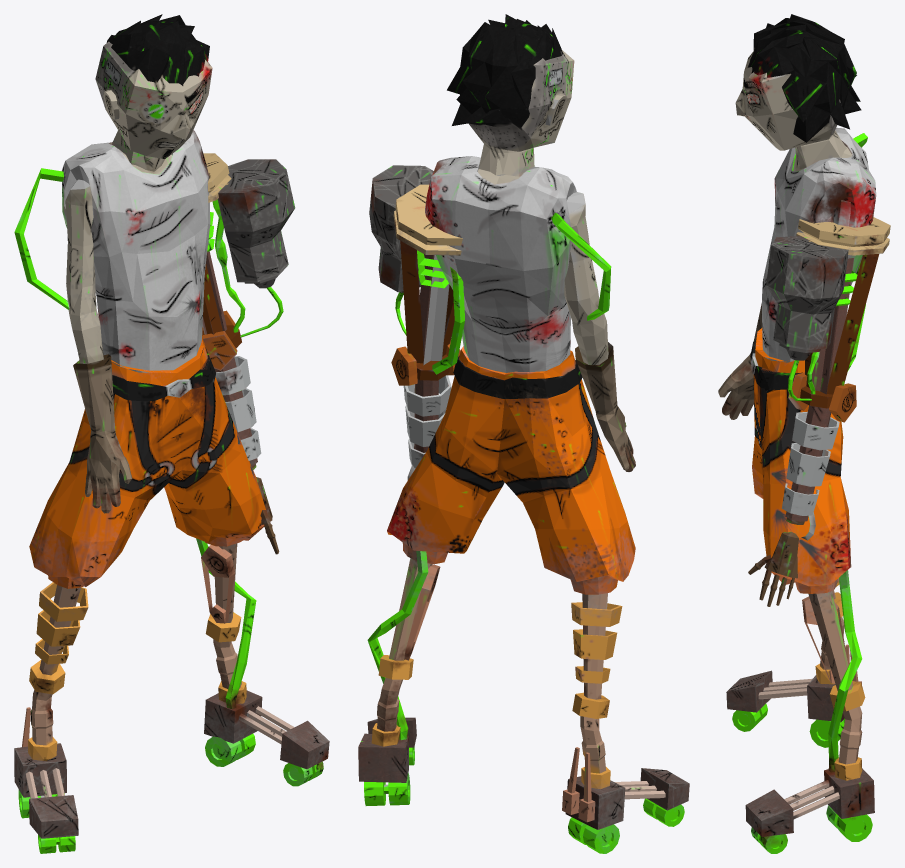
File: CyborgFINALAnimation_000048.obj
The picture shows the model from 3 angles, left to right: view 1: azimuth 30°, elevation 25°; view 2: azimuth 150°, elevation 25°; view 3: azimuth 270°, elevation 25°; orthographic projection. The views are drawn at different scales.
Parts seen in each view (by area): view 1: CyborgMesh_Cube.002; view 2: CyborgMesh_Cube.002; view 3: CyborgMesh_Cube.002.
Part boxes in pixels (x1,y1,x2,y2): CyborgMesh_Cube.002: [14, 14, 329, 853]; CyborgMesh_Cube.002: [358, 14, 689, 853]; CyborgMesh_Cube.002: [718, 14, 890, 853].
Bounding box in the file's own units: 3.84 × 9.64 × 1.97.
